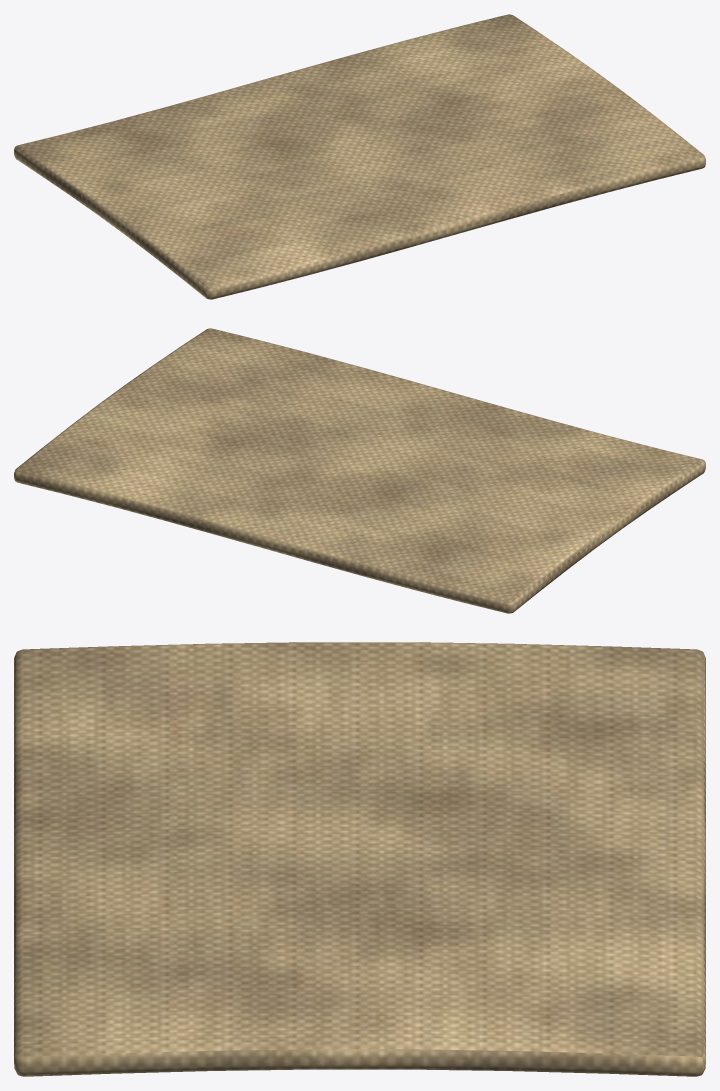
Rendered from p_carpet.glb.
3 renders of one model, top to bottom at view 1: azimuth 30°, elevation 25°; view 2: azimuth 150°, elevation 25°; view 3: azimuth 270°, elevation 25°, orthographic. The views are drawn at different scales.
Visible parts, largest first — view 1: carpet; view 2: carpet; view 3: carpet.
Part boxes in pixels (bbox=[...]): carpet: bbox=[14, 14, 705, 299]; carpet: bbox=[14, 328, 705, 613]; carpet: bbox=[14, 642, 705, 1076].
Bounding box in the file's own units: 1.1 × 0.0624 × 0.7492.
Materials: 1 (1 with a texture image).
